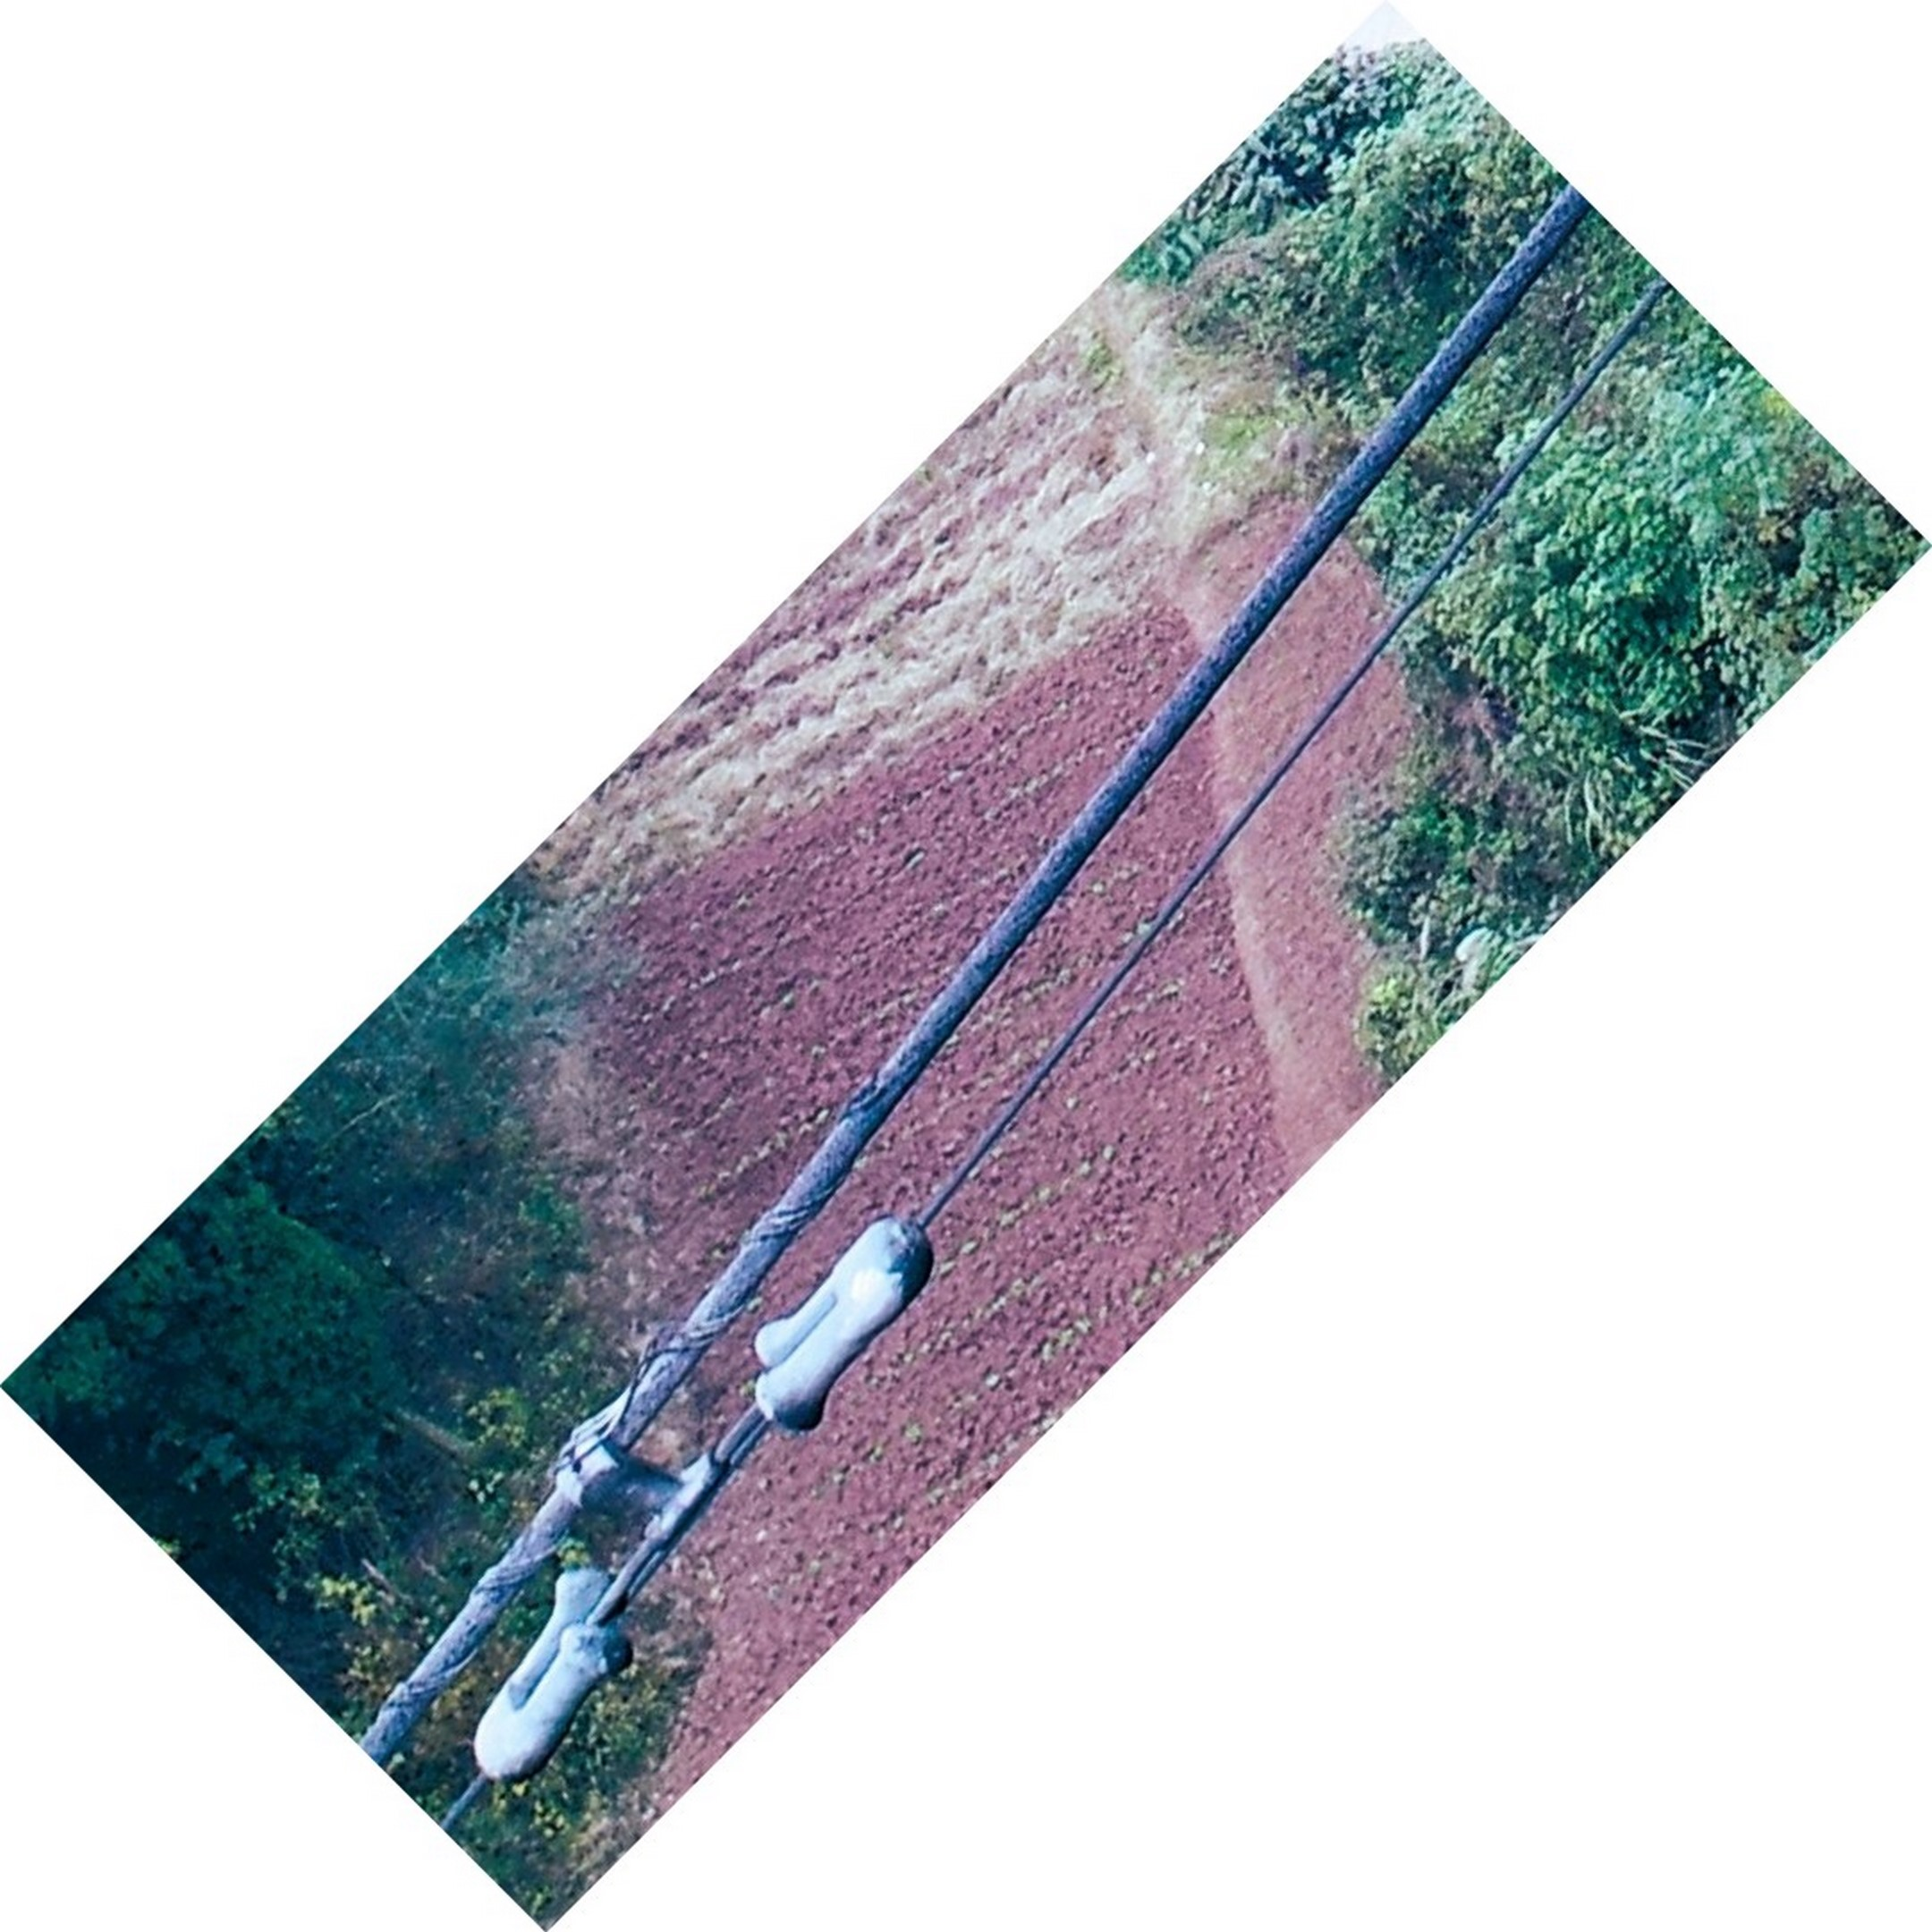Shockproof hammer: (462, 1178, 975, 1808)
